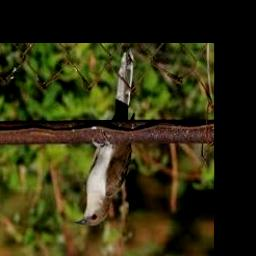Cuckoo: (75, 50, 134, 226)
